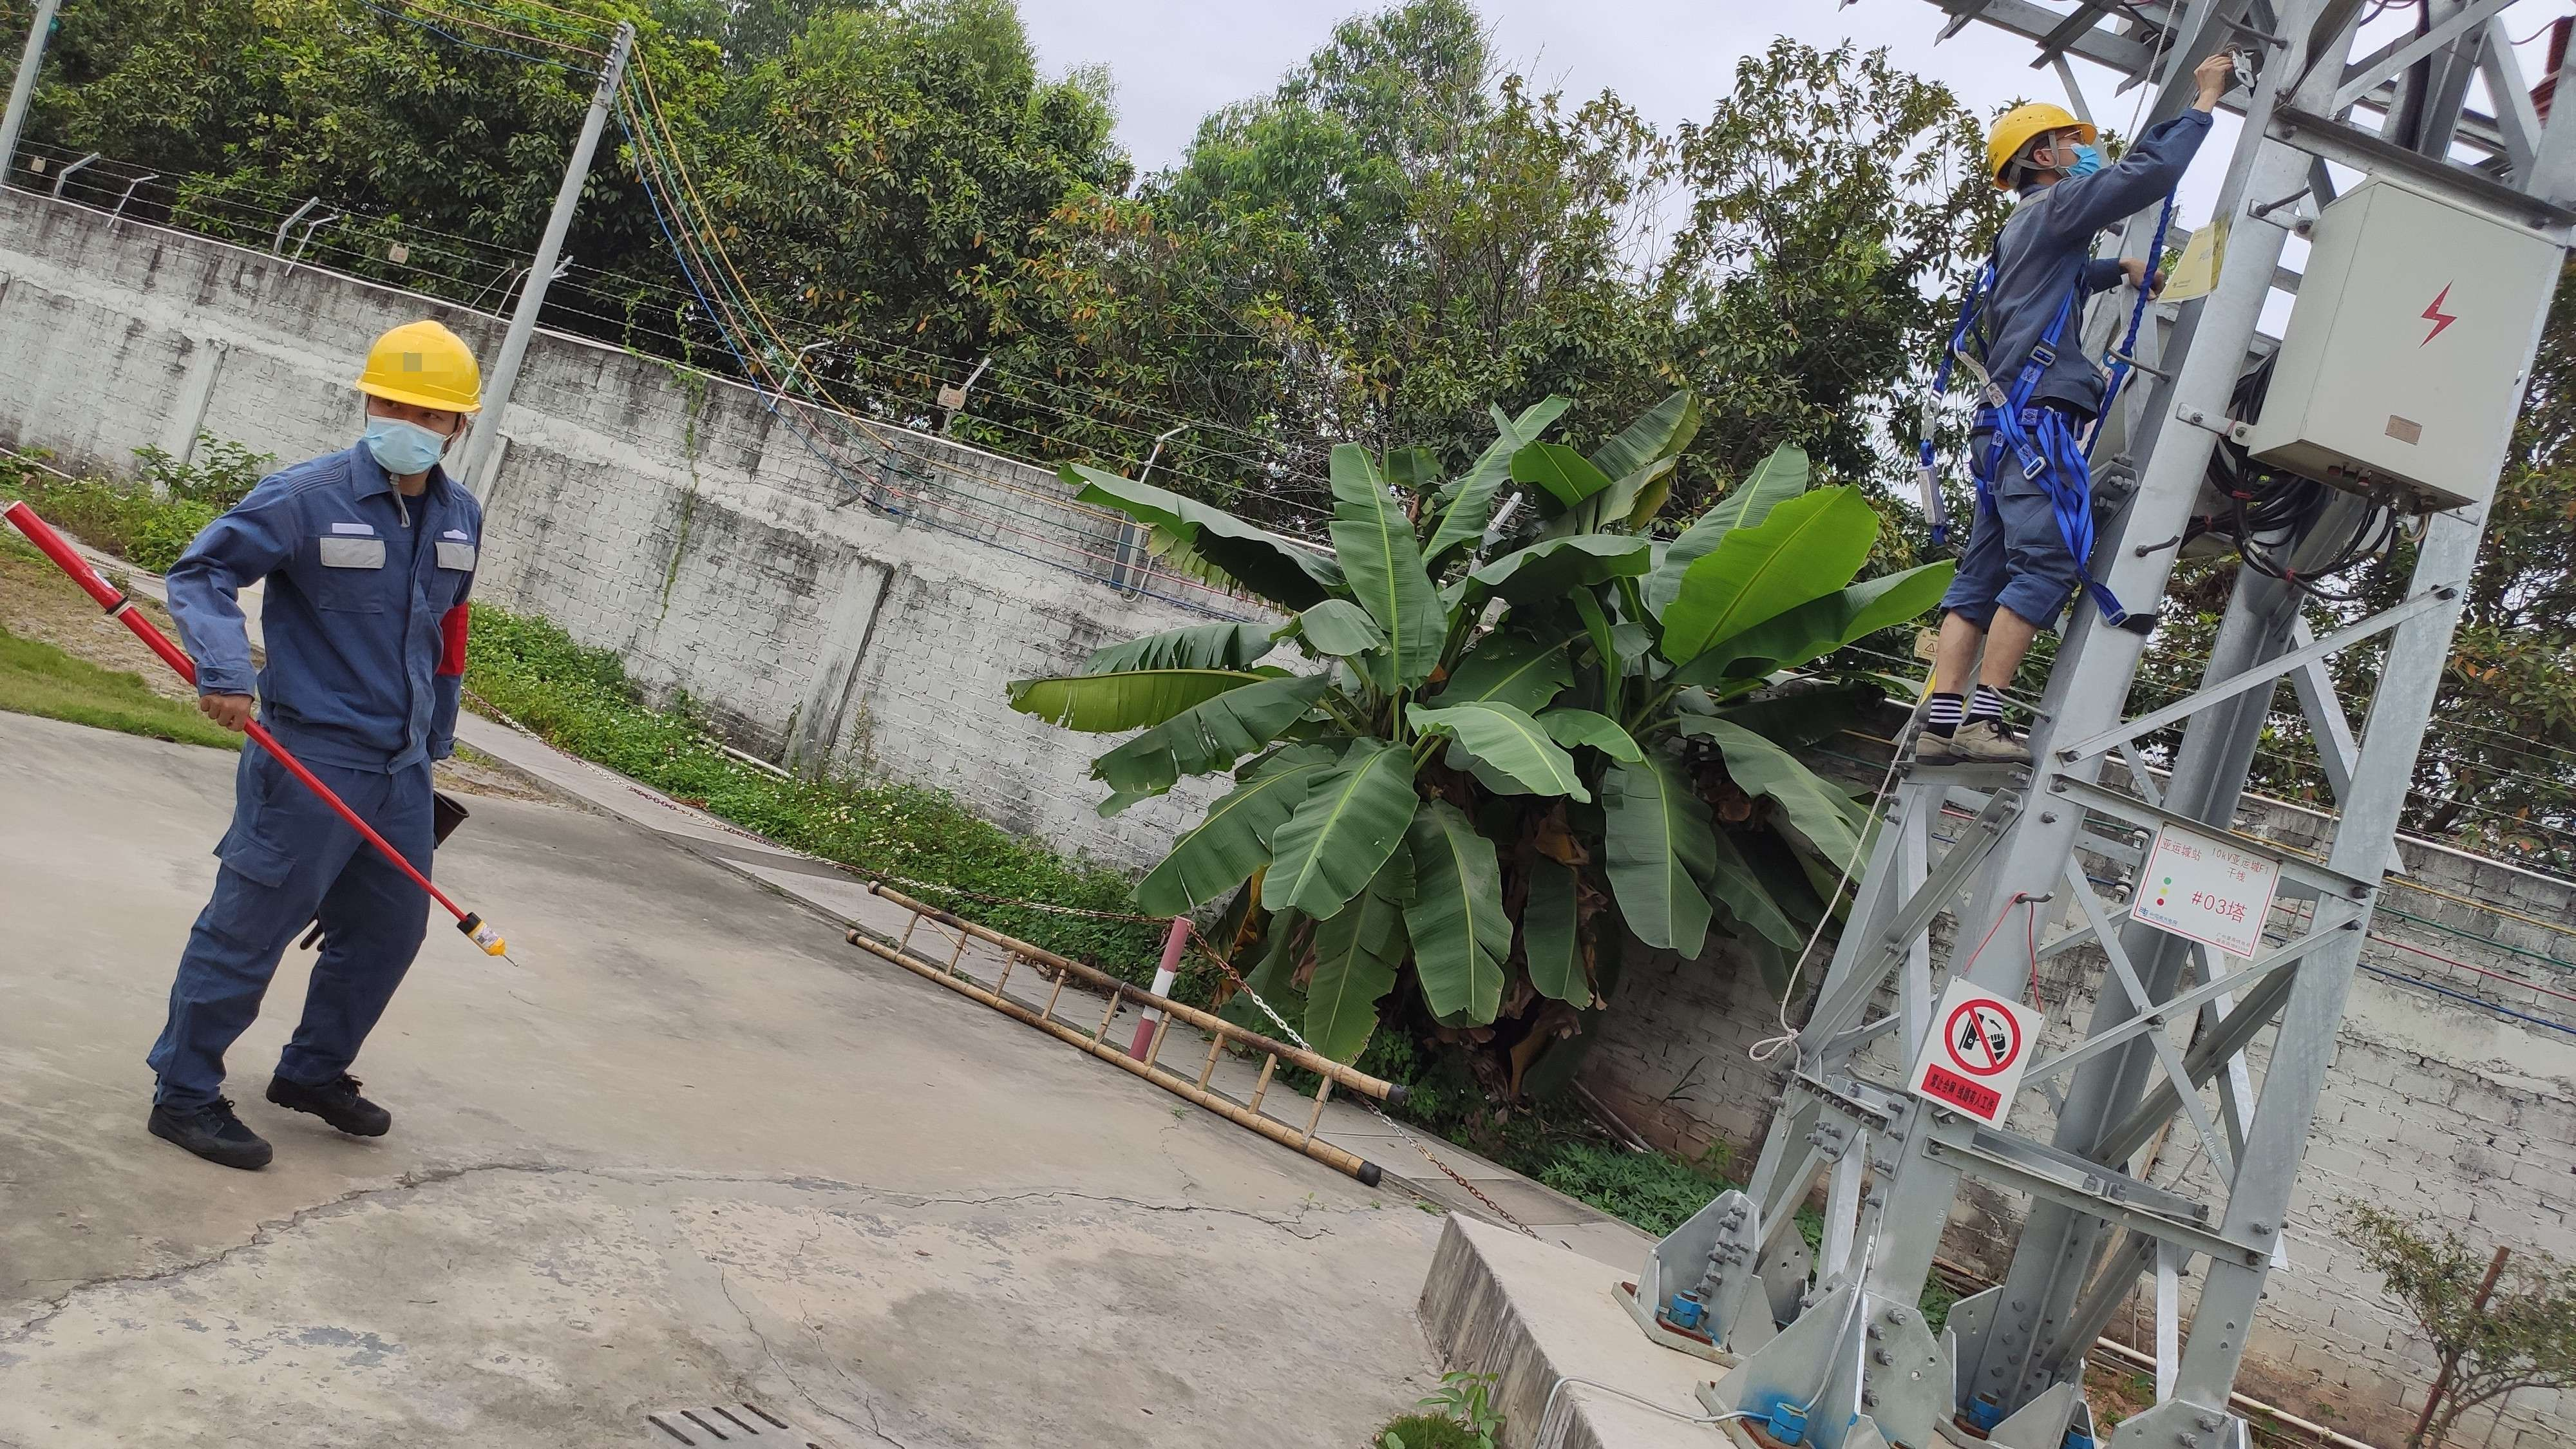downsuit: (170, 747, 439, 1095), (1953, 412, 2105, 635)
upsuit: (180, 446, 483, 782), (1967, 115, 2212, 409)
wrongbottom: (1920, 593, 2043, 727)
